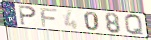0: (83, 11, 100, 32)
4: (63, 10, 80, 31)
8: (104, 12, 122, 34)
F: (39, 7, 59, 28)
P: (18, 5, 38, 27)
Q: (123, 13, 145, 36)
